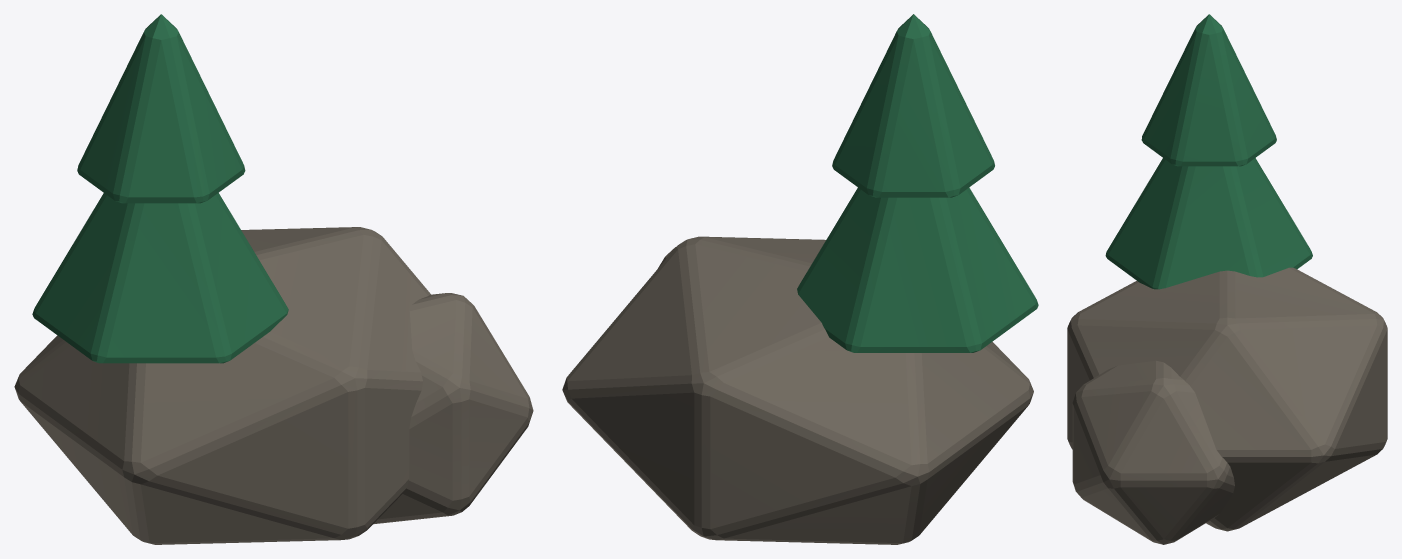
The model's file is prop_boulderpine.glb.
3 views of the same model, side by side, from view 1: azimuth 30°, elevation 25°; view 2: azimuth 150°, elevation 25°; view 3: azimuth 270°, elevation 25° (orthographic). The views are drawn at different scales.
Visible parts, largest first — view 1: prop_boulderpine_part_0; view 2: prop_boulderpine_part_0; view 3: prop_boulderpine_part_0.
Boxes of the visible parts, x1,y1,x2,y2 form: prop_boulderpine_part_0: (14,14,533,544); prop_boulderpine_part_0: (562,14,1038,544); prop_boulderpine_part_0: (1067,14,1387,544).
Size of the model in its own units: 2.1 by 2.62 by 1.76.
